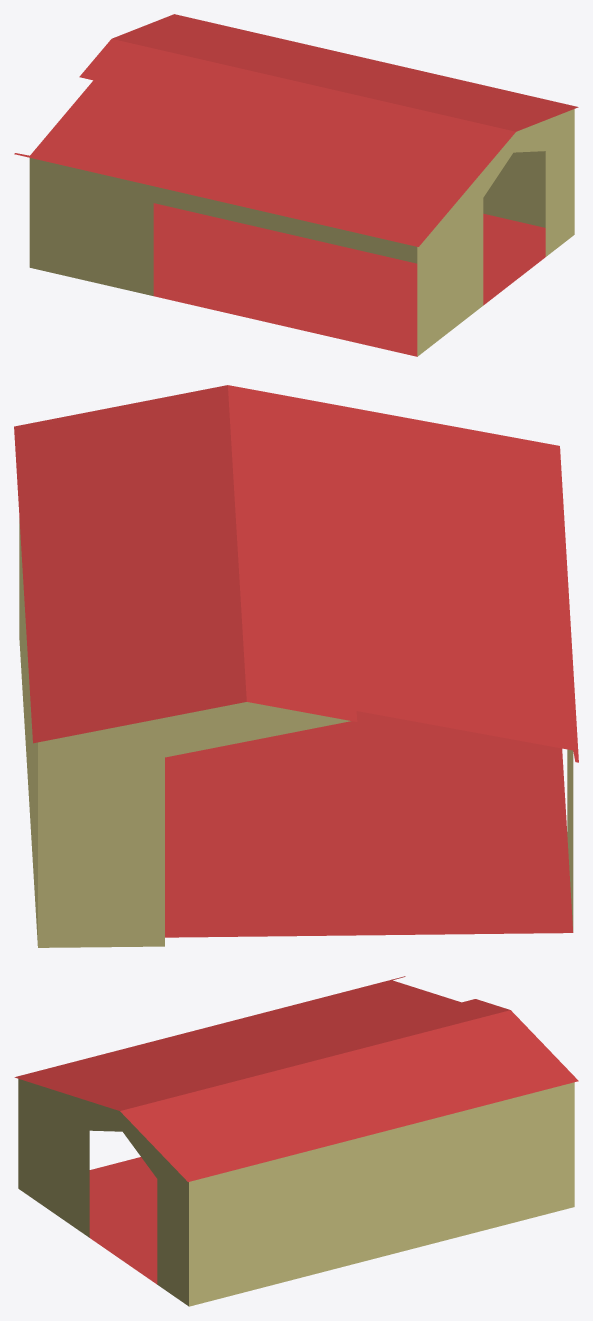
3 views of the same model, one above another, from view 1: azimuth 30°, elevation 25°; view 2: azimuth 150°, elevation 25°; view 3: azimuth 270°, elevation 25° (orthographic). The views are drawn at different scales.
Bounding box in the file's own units: 42.29 × 45.62 × 13.39.
